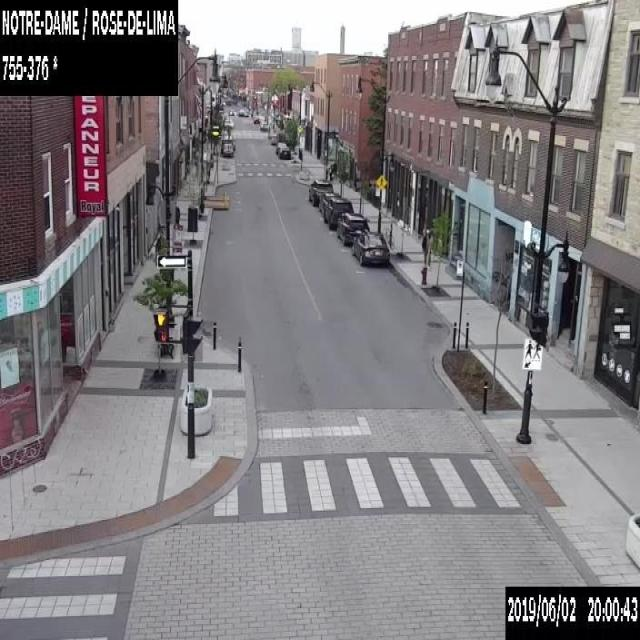pedestrian: (421, 228, 430, 268)
vehicle: (351, 231, 389, 267), (335, 212, 369, 244), (323, 196, 353, 229), (307, 178, 333, 206), (318, 192, 340, 213), (220, 134, 235, 151), (277, 146, 290, 158), (222, 143, 233, 156), (274, 141, 285, 153), (223, 118, 232, 128), (259, 121, 268, 130), (270, 134, 276, 144), (238, 110, 248, 116), (253, 116, 259, 123), (228, 108, 235, 114)
